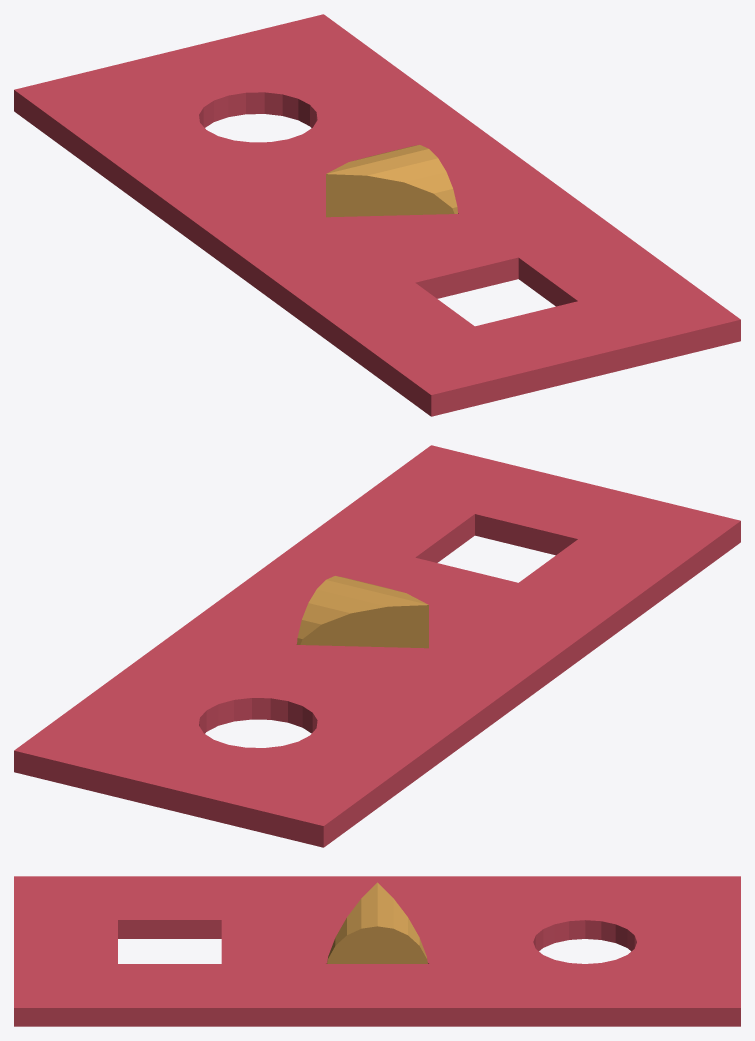
File: Glorious Wluff-Hillar.glb
3 views of the same model, one above another, from view 1: azimuth 30°, elevation 25°; view 2: azimuth 150°, elevation 25°; view 3: azimuth 270°, elevation 25° (orthographic). The views are drawn at different scales.
Parts seen in each view (by area): view 1: Mesh_Mesh_head_geo.001_lambert2SG.001; view 2: Mesh_Mesh_head_geo.001_lambert2SG.001; view 3: Mesh_Mesh_head_geo.001_lambert2SG.001.
Part boxes in pixels (x1,y1,x2,y2): Mesh_Mesh_head_geo.001_lambert2SG.001: (14,14,740,416); Mesh_Mesh_head_geo.001_lambert2SG.001: (14,445,740,847); Mesh_Mesh_head_geo.001_lambert2SG.001: (14,876,740,1026).
Bounding box in the file's own units: 30 × 10 × 70.
